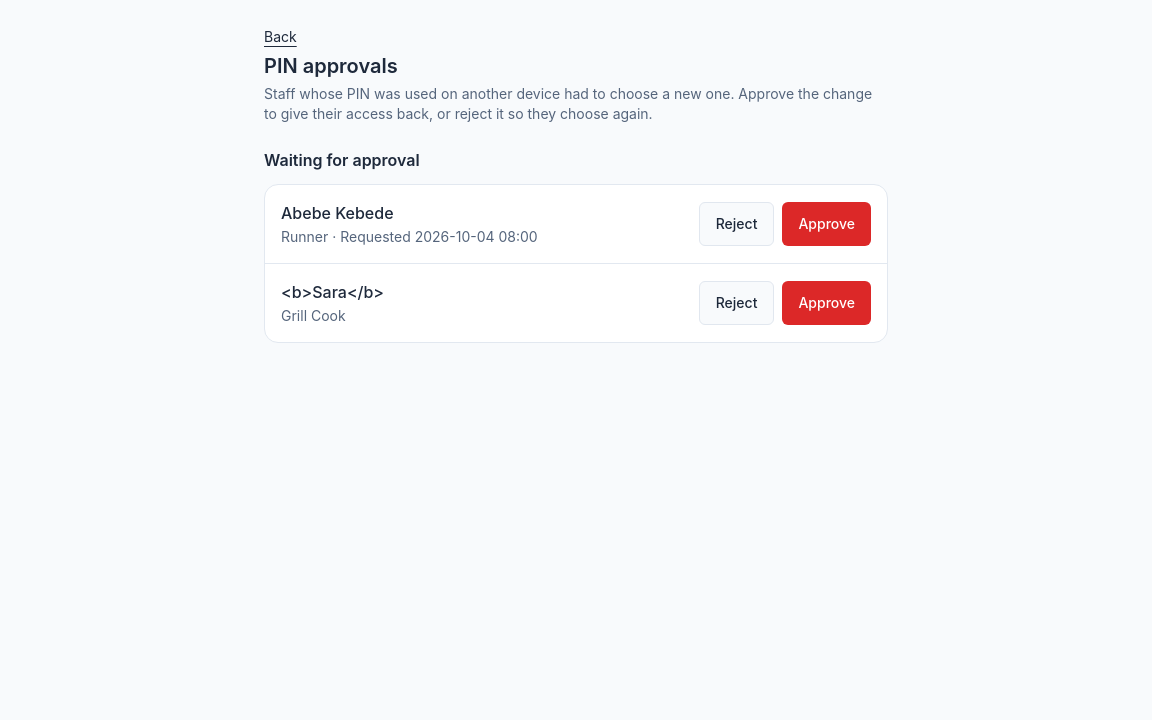
Test case: PinApprovalsPage › rejects after confirmation
Click the button with aria-label "Reject <b>Sara</b>": click(737, 303) [699,281,774,325]
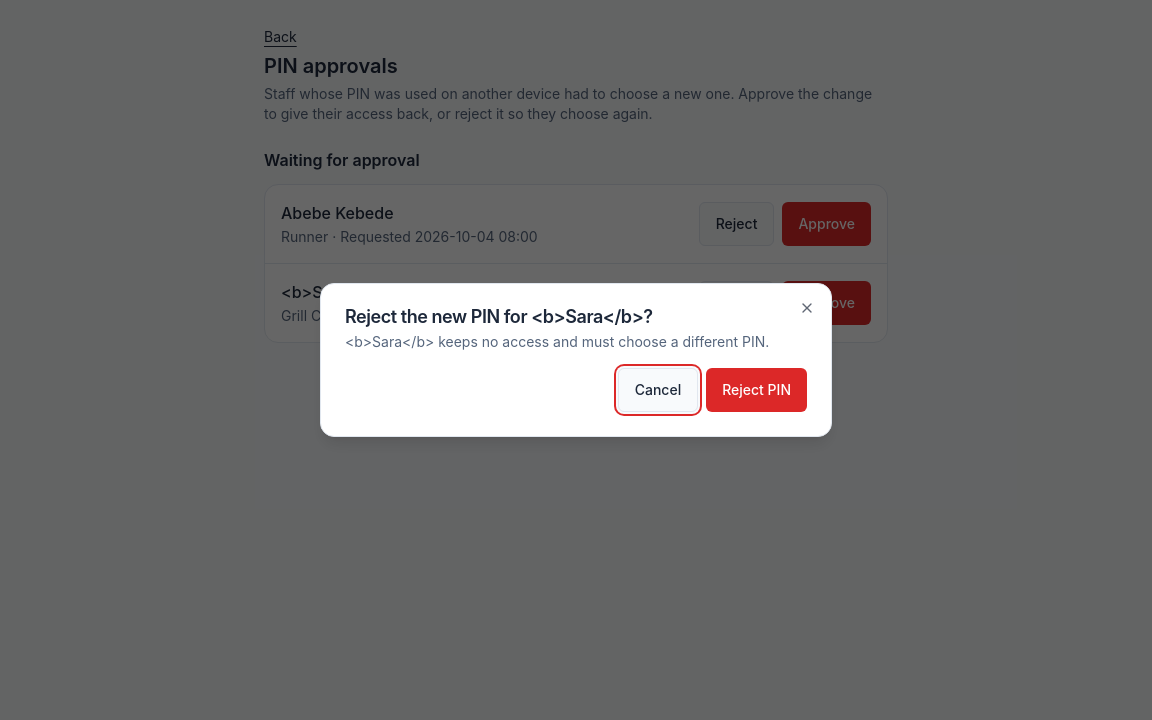
Click the button "Reject PIN": click(757, 390) [706,368,807,412]
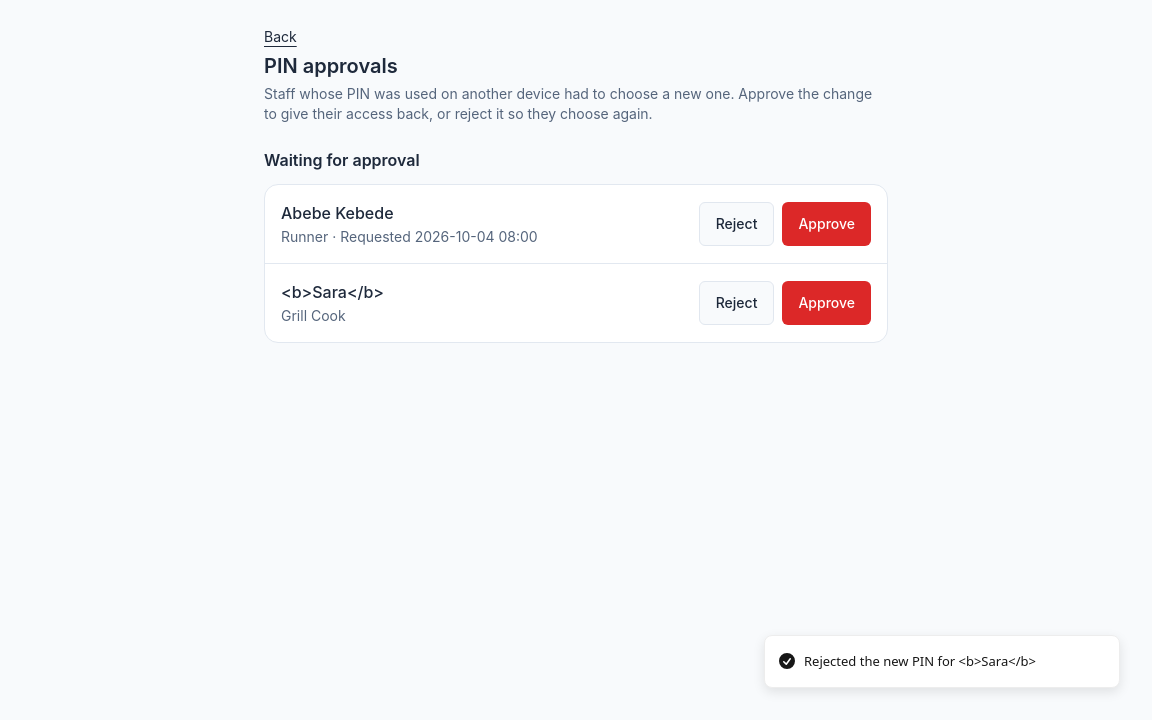
Result: the text "Rejected the new PIN for <b>Sara</b>" is shown at [804,652,1036,671]
